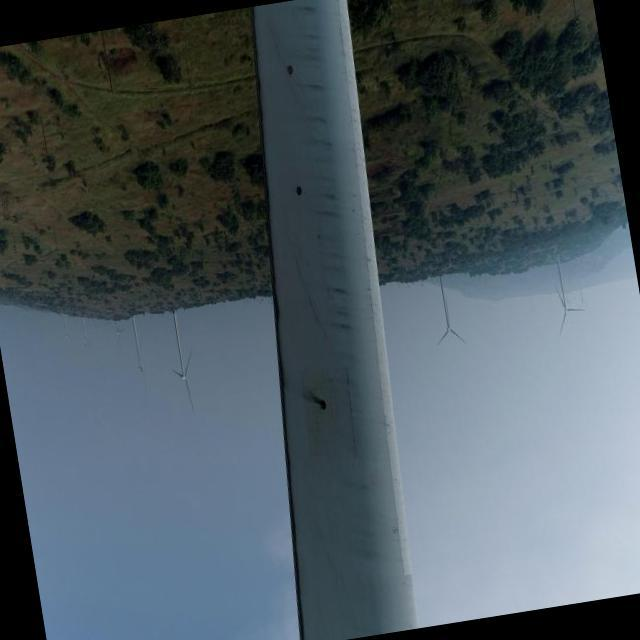Dirt: (296, 0, 363, 463)
Oil LEAKAGE: (301, 379, 320, 406)
Pin Hole: (318, 396, 332, 413), (285, 59, 296, 79), (294, 182, 304, 202)
